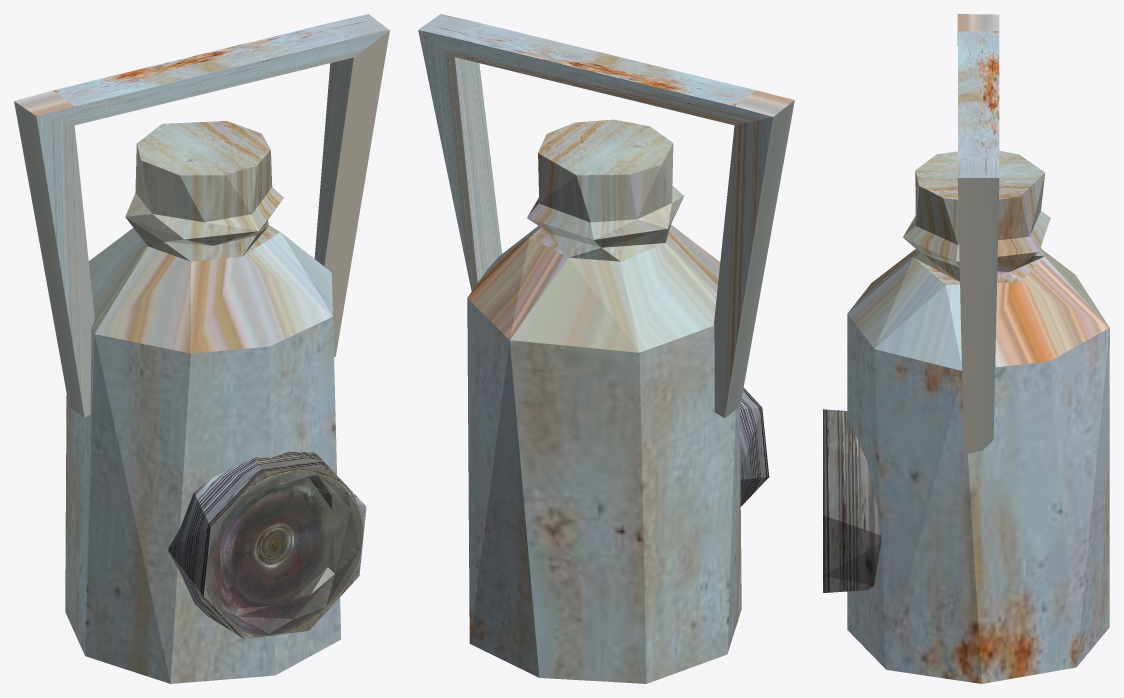
File: OldFL.fbx
The picture shows the model from 3 angles, left to right: view 1: azimuth 30°, elevation 25°; view 2: azimuth 150°, elevation 25°; view 3: azimuth 270°, elevation 25°; orthographic projection. The views are drawn at different scales.
Parts seen in each view (by area): view 1: Cylinder, Cylinder.001; view 2: Cylinder, Cylinder.001; view 3: Cylinder, Cylinder.001.
Boxes of the visible parts, x1=… form: Cylinder: x1=14, y1=14, x2=389, y2=683; Cylinder.001: x1=168, y1=451, x2=366, y2=639; Cylinder: x1=418, y1=14, x2=794, y2=683; Cylinder.001: x1=740, y1=388, x2=769, y2=506; Cylinder: x1=847, y1=14, x2=1109, y2=683; Cylinder.001: x1=823, y1=409, x2=881, y2=592.
Size of the model in its own units: 44.93 by 67.98 by 33.16.
2 materials, 2 textured.
